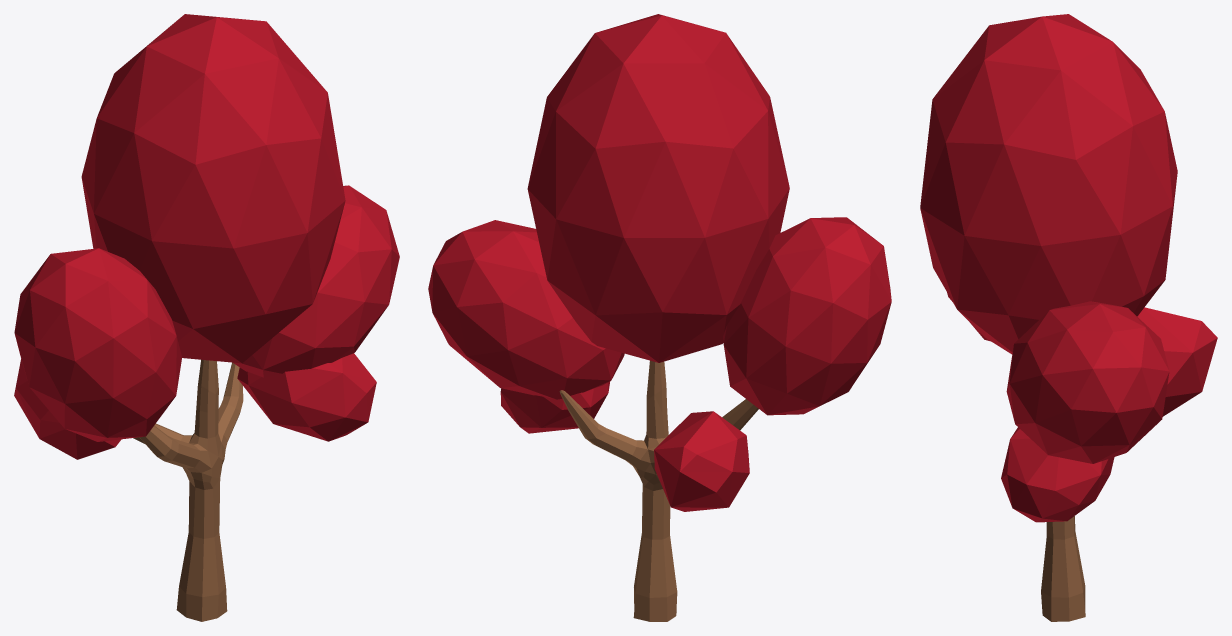
File: tree-dead-complete-10-002.glb
3 renders of one model, left to right at view 1: azimuth 30°, elevation 25°; view 2: azimuth 150°, elevation 25°; view 3: azimuth 270°, elevation 25°, orthographic.
Visible parts, largest first — view 1: TREE 10.007_497, TREE 10.006_498; view 2: TREE 10.007_497, TREE 10.006_498; view 3: TREE 10.007_497, TREE 10.006_498.
Boxes of the visible parts, x1,y1,x2,y2 form: TREE 10.007_497: (14, 14, 399, 459); TREE 10.006_498: (133, 359, 243, 621); TREE 10.007_497: (428, 14, 891, 511); TREE 10.006_498: (559, 360, 758, 621); TREE 10.007_497: (920, 14, 1217, 522); TREE 10.006_498: (1041, 516, 1085, 621).
Size of the model in its own units: 1.19 by 1.67 by 0.7525.
